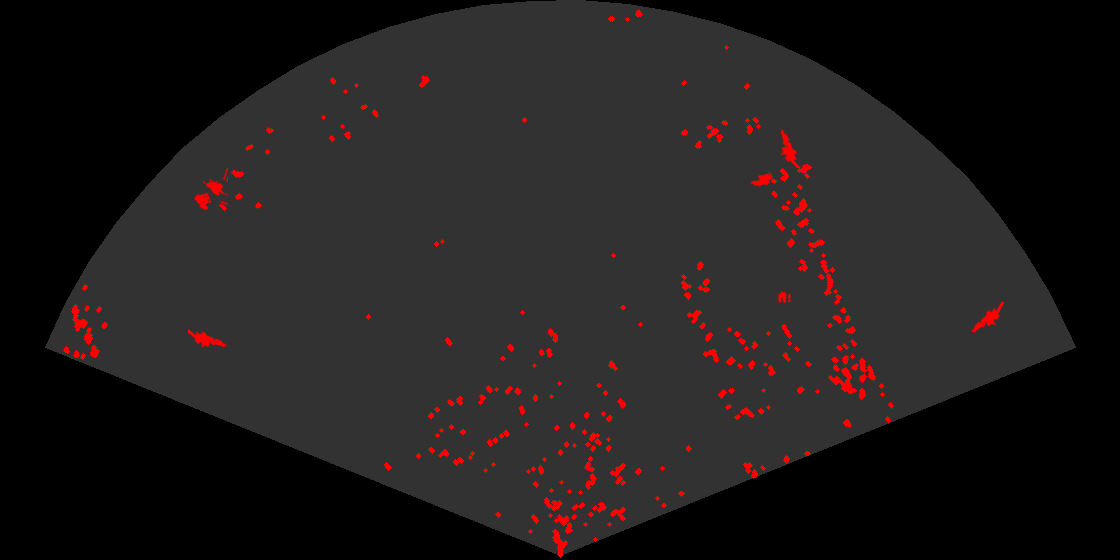AUV: (749, 172, 774, 188)
ball: (776, 290, 792, 305)
cage: (193, 168, 228, 212)
frogman: (968, 302, 1004, 341), (778, 128, 803, 168), (188, 327, 228, 349)
